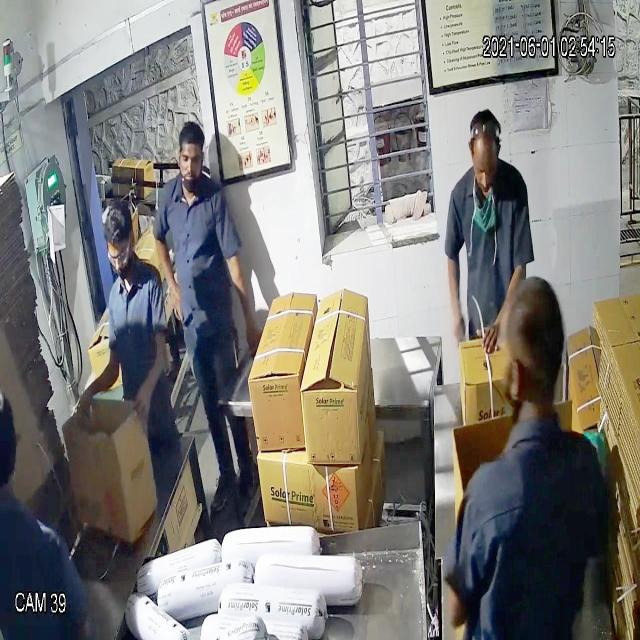glasses: (105, 238, 133, 274)
